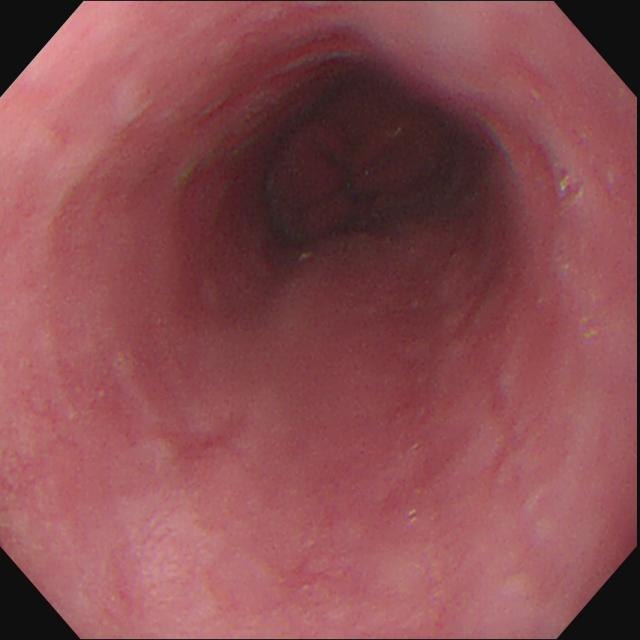I: (265, 87, 436, 242)
